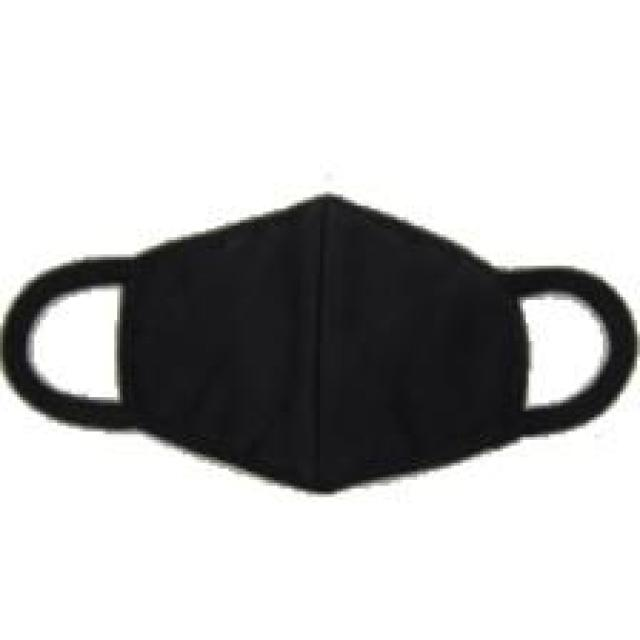Mask: (0, 194, 640, 506)
